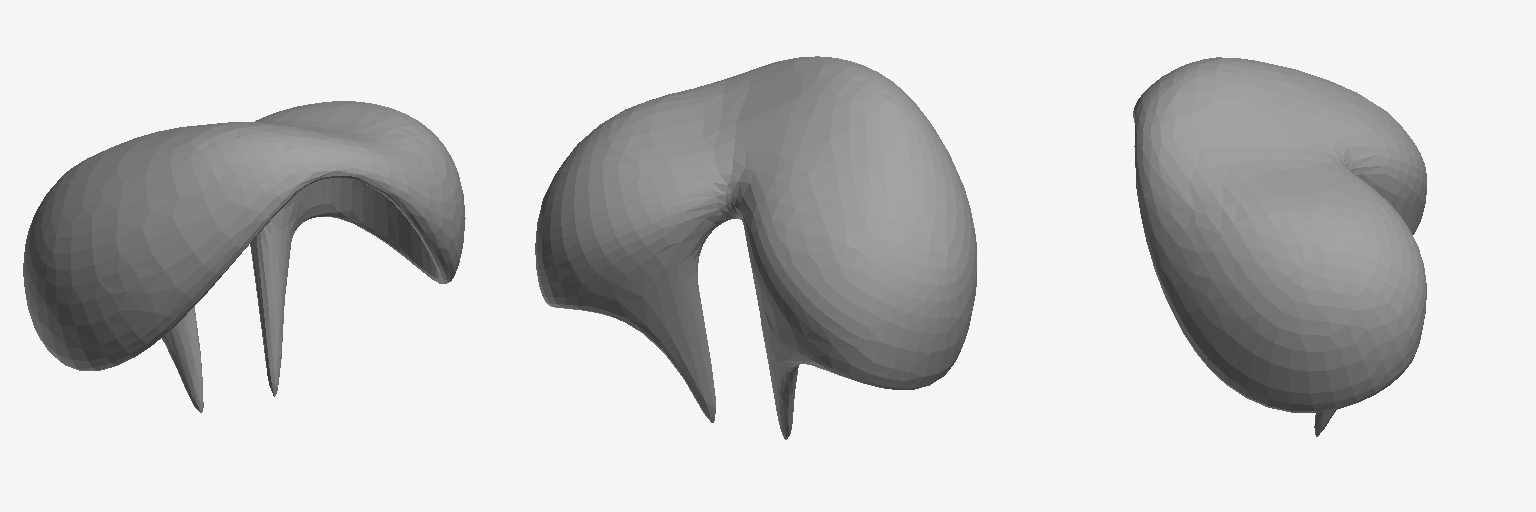
File: organs_diaphragm.obj
3 renders of one model, left to right at view 1: azimuth 30°, elevation 25°; view 2: azimuth 150°, elevation 25°; view 3: azimuth 270°, elevation 25°, orthographic.
Visible parts, largest first — view 1: Diaphragm_polySurface1.005; view 2: Diaphragm_polySurface1.005; view 3: Diaphragm_polySurface1.005.
Part boxes in pixels (x1,y1,x2,y2): Diaphragm_polySurface1.005: (23, 101, 465, 412); Diaphragm_polySurface1.005: (535, 56, 976, 439); Diaphragm_polySurface1.005: (1133, 57, 1426, 436).
Bounding box in the file's own units: 22.33 × 17.33 × 14.17.